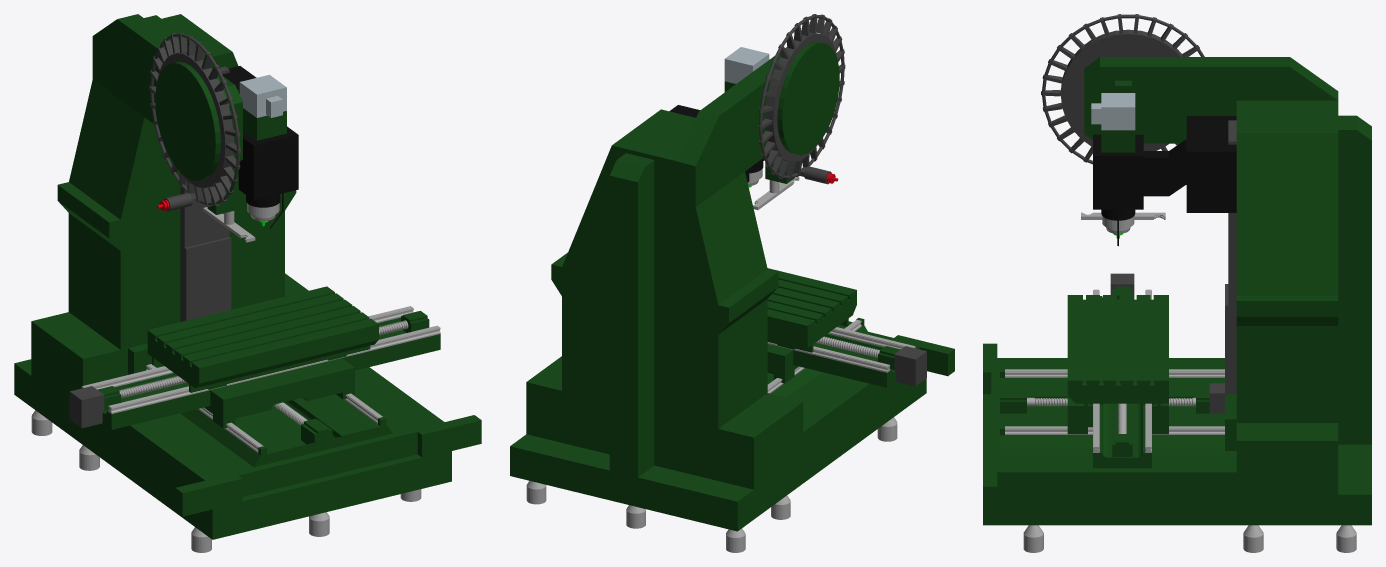
The model's file is Quaser MV184.fbx.
The picture shows the model from 3 angles, left to right: view 1: azimuth 30°, elevation 25°; view 2: azimuth 150°, elevation 25°; view 3: azimuth 270°, elevation 25°; orthographic projection. The views are drawn at different scales.
Parts seen in each view (by area): view 1: Станина, Стол, Направляющая стола, Магазин инструментов, Шасси шпинделя, Винт оси X, Шпиндель, Рука; view 2: Станина, Магазин инструментов, Направляющая стола, Стол, Шасси шпинделя; view 3: Станина, Шасси шпинделя, Стол, Магазин инструментов, Направляющая стола, Шпиндель, Винт оси Y.
Boxes of the visible parts, box(x1,y1,x2,y2) form: Станина: box(14, 14, 481, 552); Стол: box(147, 286, 378, 392); Направляющая стола: box(69, 306, 440, 429); Магазин инструментов: box(149, 32, 240, 206); Шасси шпинделя: box(222, 66, 298, 228); Винт оси X: box(119, 320, 408, 398); Шпиндель: box(246, 194, 280, 221); Рука: box(203, 207, 255, 242); Станина: box(510, 47, 954, 552); Магазин инструментов: box(758, 14, 845, 179); Направляющая стола: box(767, 327, 926, 387); Стол: box(767, 268, 856, 352); Шасси шпинделя: box(669, 47, 769, 182); Станина: box(983, 57, 1371, 552); Шасси шпинделя: box(1091, 93, 1236, 246); Стол: box(1067, 295, 1168, 411); Магазин инструментов: box(1041, 14, 1204, 164); Направляющая стола: box(1067, 273, 1168, 468); Шпиндель: box(1101, 209, 1135, 233); Винт оси Y: box(1027, 397, 1195, 406).
Size of the model in its own units: 234 by 296 by 230.
